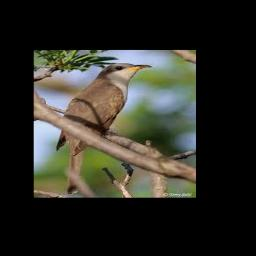Cuckoo: (56, 63, 152, 195)
